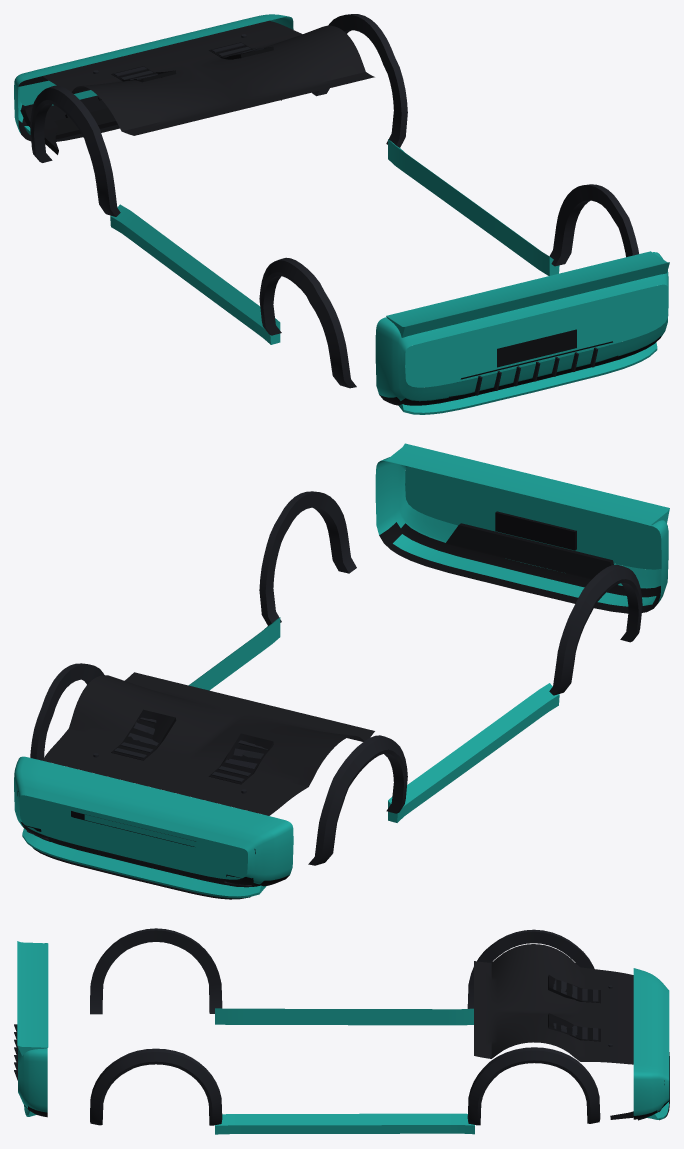
The model's file is kit_drift.glb.
3 views of the same model, one above another, from view 1: azimuth 30°, elevation 25°; view 2: azimuth 150°, elevation 25°; view 3: azimuth 270°, elevation 25° (orthographic). The views are drawn at different scales.
Visible parts, largest first — view 1: skirts__drift, hood__drift, bumper_front__drift, bumper_rear__drift, spoiler__drift; view 2: bumper_front__drift, hood__drift, skirts__drift, bumper_rear__drift, spoiler__drift; view 3: skirts__drift, hood__drift, bumper_front__drift, spoiler__drift, bumper_rear__drift.
Part boxes in pixels (left/top/right/bottom): skirts__drift: left=30, top=14, right=638, bottom=388; hood__drift: left=42, top=20, right=374, bottom=135; bumper_front__drift: left=14, top=14, right=668, bottom=387; bumper_rear__drift: left=375, top=252, right=668, bottom=414; spoiler__drift: left=386, top=251, right=669, bottom=337; bumper_front__drift: left=14, top=466, right=661, bottom=899; hood__drift: left=42, top=672, right=374, bottom=815; skirts__drift: left=30, top=491, right=642, bottom=865; bumper_rear__drift: left=375, top=457, right=668, bottom=613; spoiler__drift: left=386, top=443, right=669, bottom=525; skirts__drift: left=90, top=928, right=600, bottom=1134; hood__drift: left=474, top=944, right=633, bottom=1064; bumper_front__drift: left=610, top=968, right=669, bottom=1120; spoiler__drift: left=17, top=941, right=48, bottom=1055; bumper_rear__drift: left=14, top=943, right=47, bottom=1117.
Size of what is drawn, in the model's own units: 2.18 by 0.7271 by 4.76.
